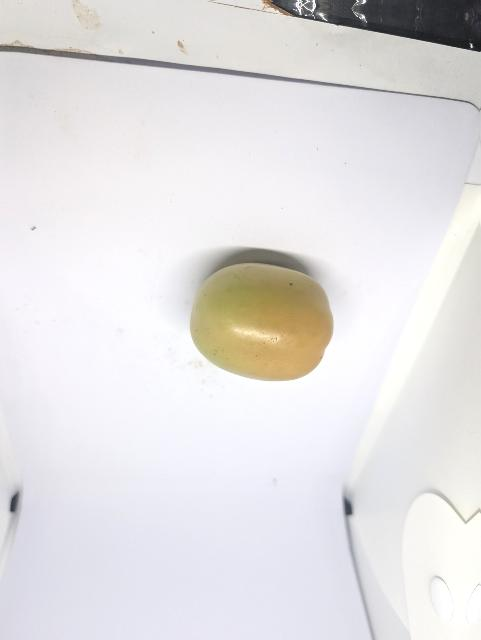breaker: (191, 263, 334, 381)
